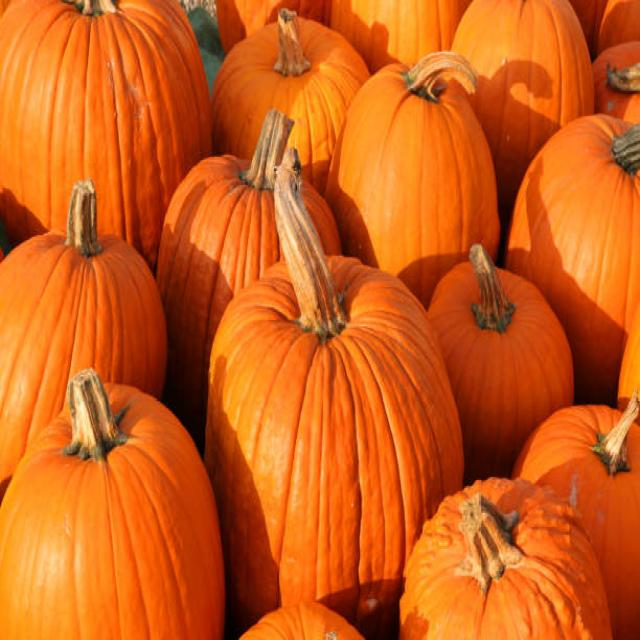Pumpkin: (205, 252, 454, 515), (0, 378, 225, 640), (0, 0, 202, 177), (406, 476, 593, 640), (336, 63, 492, 256), (0, 220, 160, 382), (442, 259, 576, 445), (528, 110, 640, 324), (212, 16, 347, 125), (166, 148, 276, 273)
